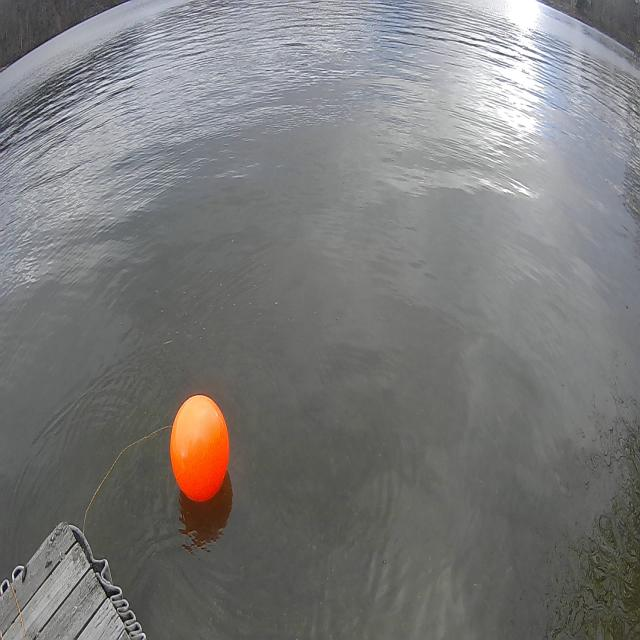Buoy: (171, 391, 231, 509)
